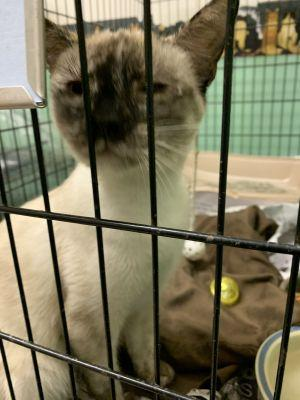siamese: (37, 1, 234, 200)
